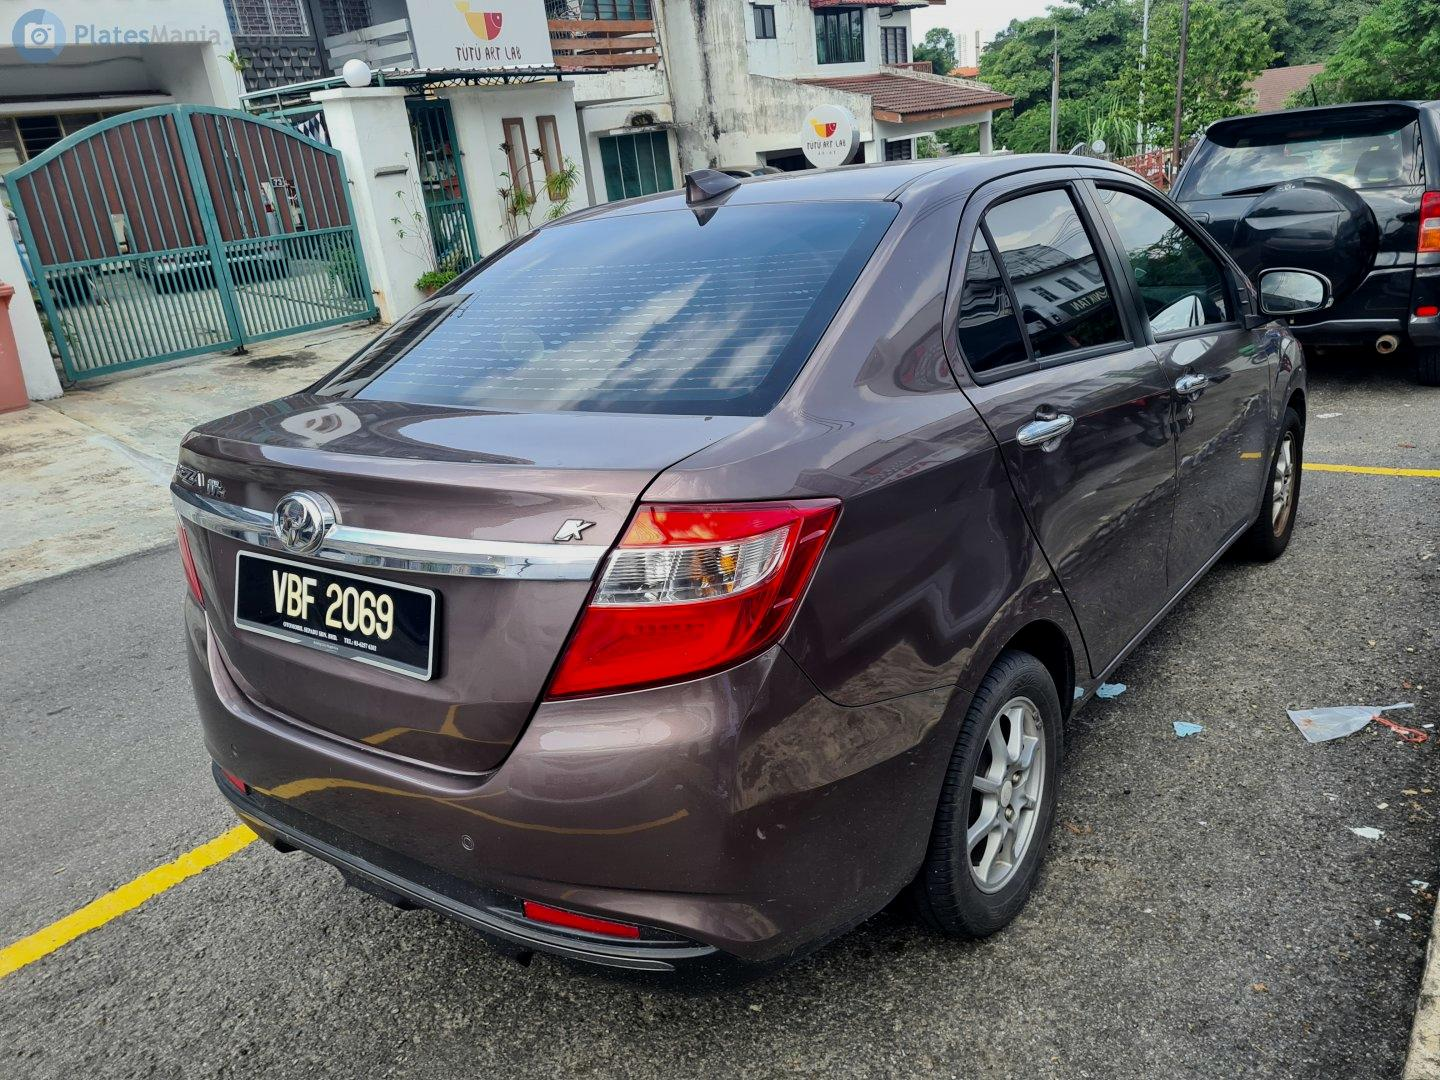License Plate: (238, 556, 434, 674)
